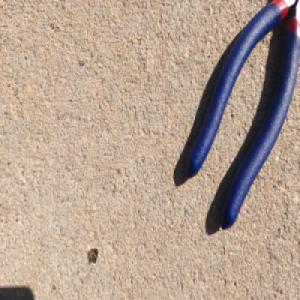Pliers: (184, 0, 300, 236)
